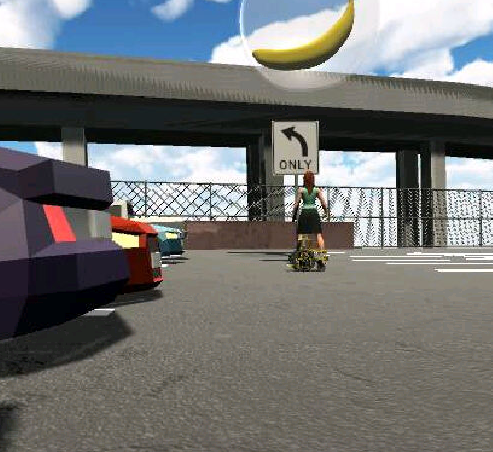arrow_left: (278, 124, 314, 158)
